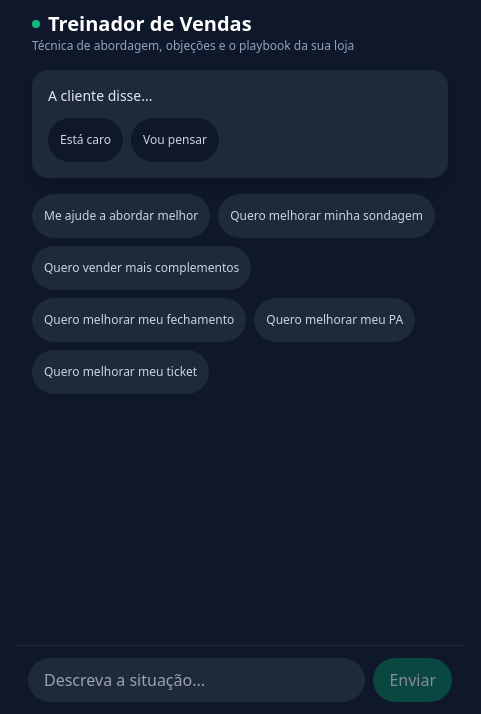
Test: Treinador › envia uma objeção com mode=OBJECAO e objection preenchido
Click the button "Está caro" at [86, 140], box [48,118,123,162]
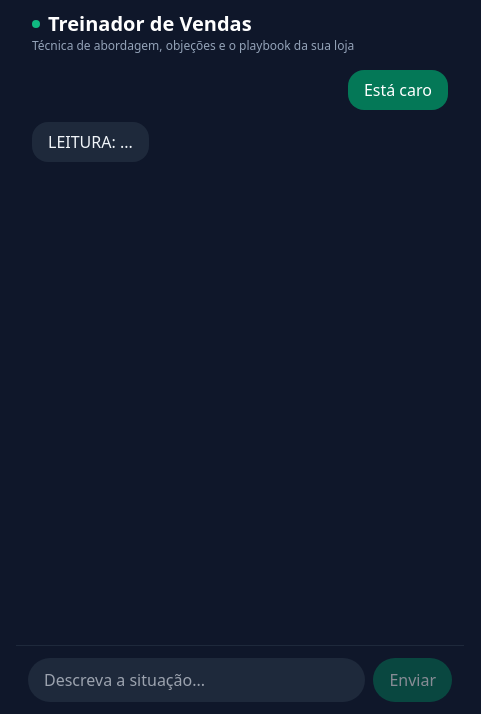
Result: the text "LEITURA: ..." is shown at [48,130,133,154]
